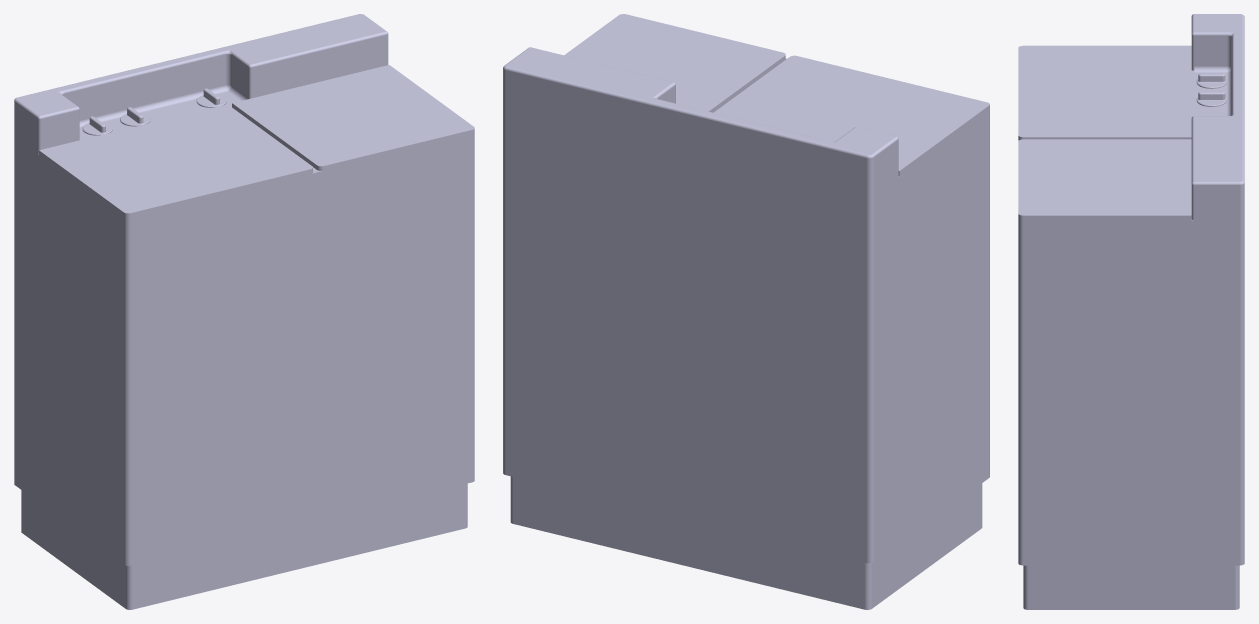
Rendered from washing_machine.gltf.
The picture shows the model from 3 angles, left to right: view 1: azimuth 30°, elevation 25°; view 2: azimuth 150°, elevation 25°; view 3: azimuth 270°, elevation 25°; orthographic projection. The views are drawn at different scales.
Parts seen in each view (by area): view 1: body_clone, base_clone, lid1_clone, lid2_clone; view 2: body_clone, base_clone, lid1_clone, lid2_clone; view 3: body_clone, lid1_clone, lid2_clone, base_clone, switch2_clone, switch1_clone.
Part boxes in pixels (x1,y1,x2,y2): body_clone: (14, 14, 474, 565); base_clone: (21, 483, 467, 609); lid1_clone: (39, 104, 312, 217); lid2_clone: (232, 65, 474, 170); body_clone: (503, 47, 989, 563); base_clone: (510, 476, 982, 609); lid1_clone: (713, 55, 989, 175); lid2_clone: (564, 14, 785, 112); body_clone: (1018, 14, 1244, 565); lid1_clone: (1018, 45, 1191, 140); lid2_clone: (1018, 139, 1191, 220); base_clone: (1023, 565, 1239, 609); switch2_clone: (1196, 91, 1226, 106); switch1_clone: (1196, 73, 1226, 88).
Size of the model in its own units: 0.78 by 0.92 by 0.44.
